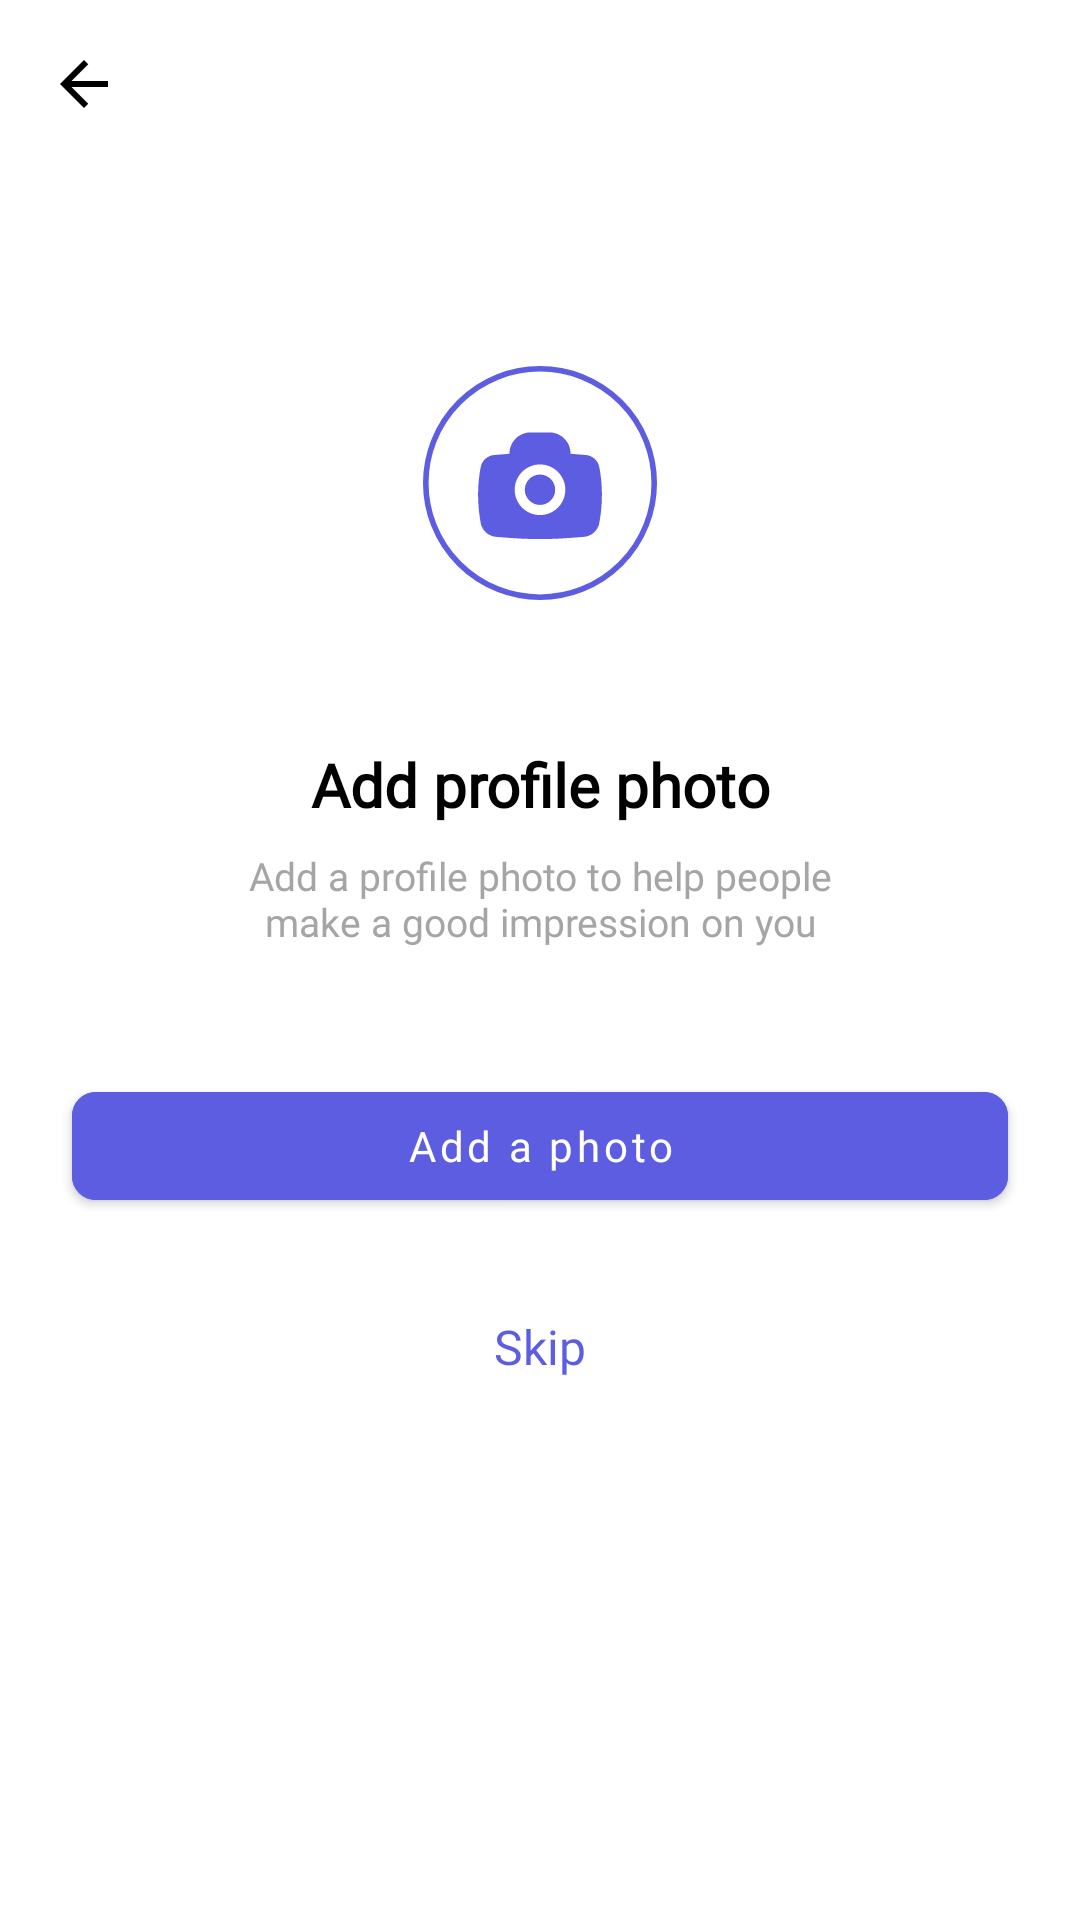

Locate icon controls on the screen. Image size 1080px×1920px, boxes as (x1, y1, x2, y2).
arrow back: (60, 60, 108, 108)
camera: (423, 366, 657, 600)
